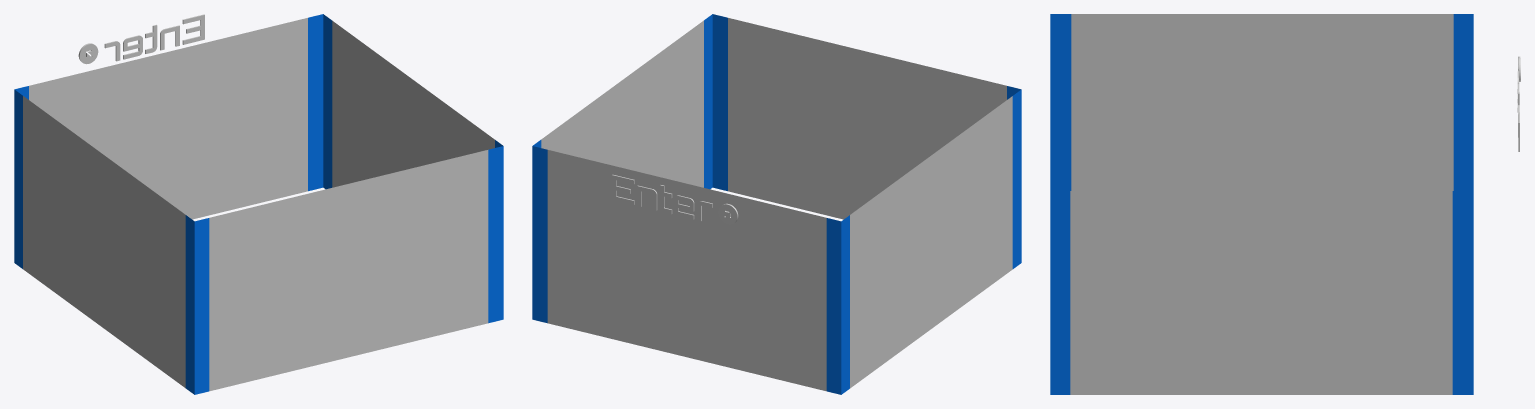
Rendered from SiegmeyerEffects.glb.
3 views of the same model, side by side, from view 1: azimuth 30°, elevation 25°; view 2: azimuth 150°, elevation 25°; view 3: azimuth 270°, elevation 25° (orthographic). The views are drawn at different scales.
Visible parts, largest first — view 1: cubeFaces, cubeCorners, siegmeyerEnter.001; view 2: cubeFaces, cubeCorners, siegmeyerEnter.001; view 3: cubeFaces, cubeCorners.
Boxes of the visible parts, x1,y1,x2,y2 form: cubeFaces: (23, 18, 494, 391); cubeCorners: (14, 14, 503, 394); siegmeyerEnter.001: (78, 14, 204, 64); cubeFaces: (541, 18, 1012, 391); cubeCorners: (532, 14, 1021, 394); siegmeyerEnter.001: (612, 174, 738, 224); cubeFaces: (1070, 14, 1453, 394); cubeCorners: (1050, 14, 1473, 394).
Size of the model in its own units: 84.32 by 48.13 by 94.69.
